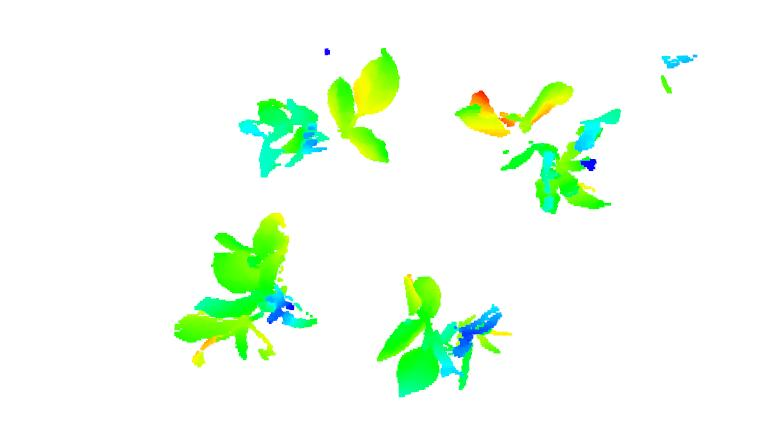mungbean: (452, 74, 632, 219), (168, 205, 318, 372), (237, 45, 406, 184), (374, 267, 512, 397)
